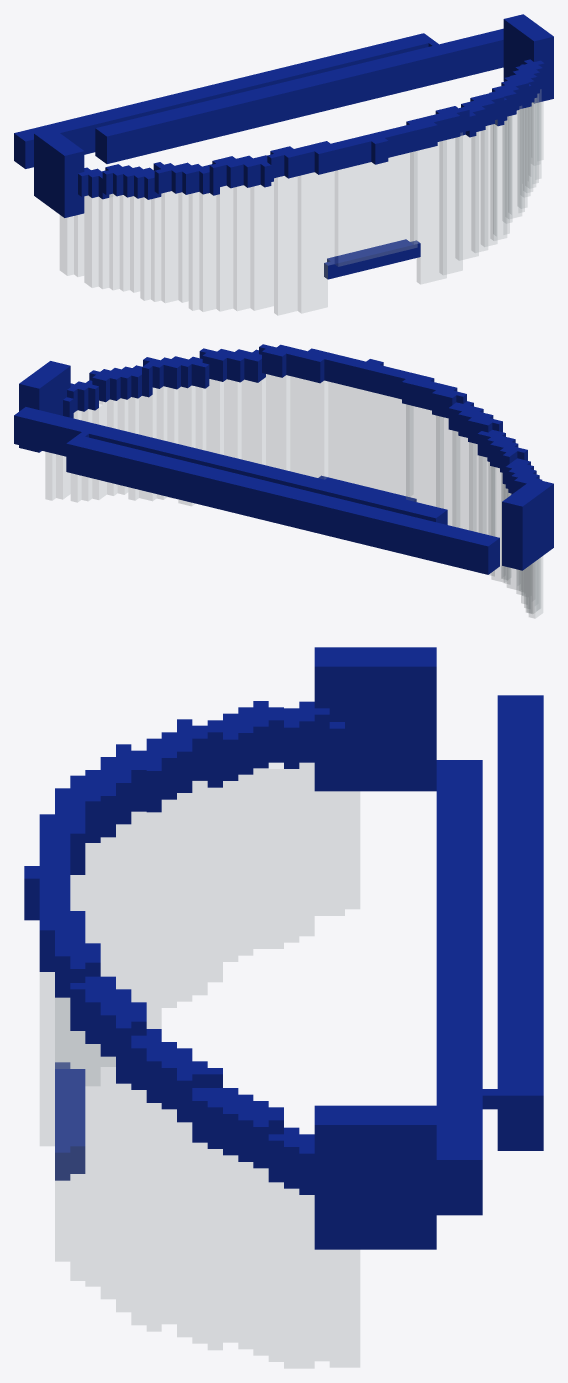
File: glasses_safety.glb
The picture shows the model from 3 angles, top to bottom: view 1: azimuth 30°, elevation 25°; view 2: azimuth 150°, elevation 25°; view 3: azimuth 270°, elevation 25°; orthographic projection. The views are drawn at different scales.
Visible parts, largest first — view 1: glasses_safety:compound; view 2: glasses_safety:compound; view 3: glasses_safety:compound.
Boxes of the visible parts, x1,y1,x2,y2 form: glasses_safety:compound: [14, 14, 553, 315]; glasses_safety:compound: [14, 344, 553, 618]; glasses_safety:compound: [24, 647, 543, 1368].
Bounding box in the file's own units: 0.148 × 0.046 × 0.068.
